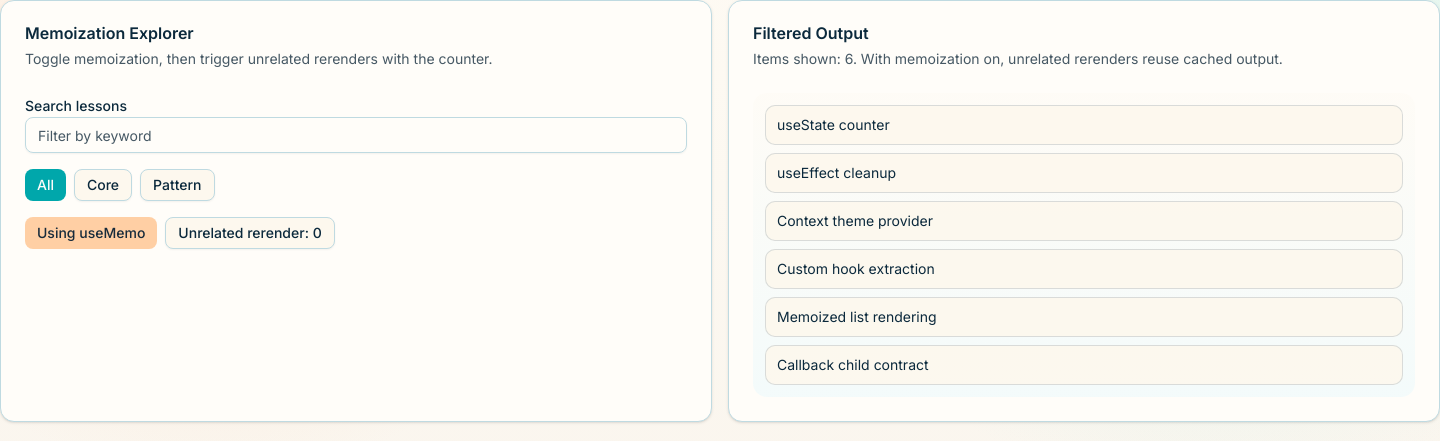
Test case: MemoFilterDemo interactions › supports behavior toggles and filtering state transitions
The width and height of the screenshot is (1440, 441).
expect the text "Items shown: 6." is shown: met, box [753, 50, 1283, 67]
Click the button "Using useMemo" at (91,233), box [25, 217, 157, 249]
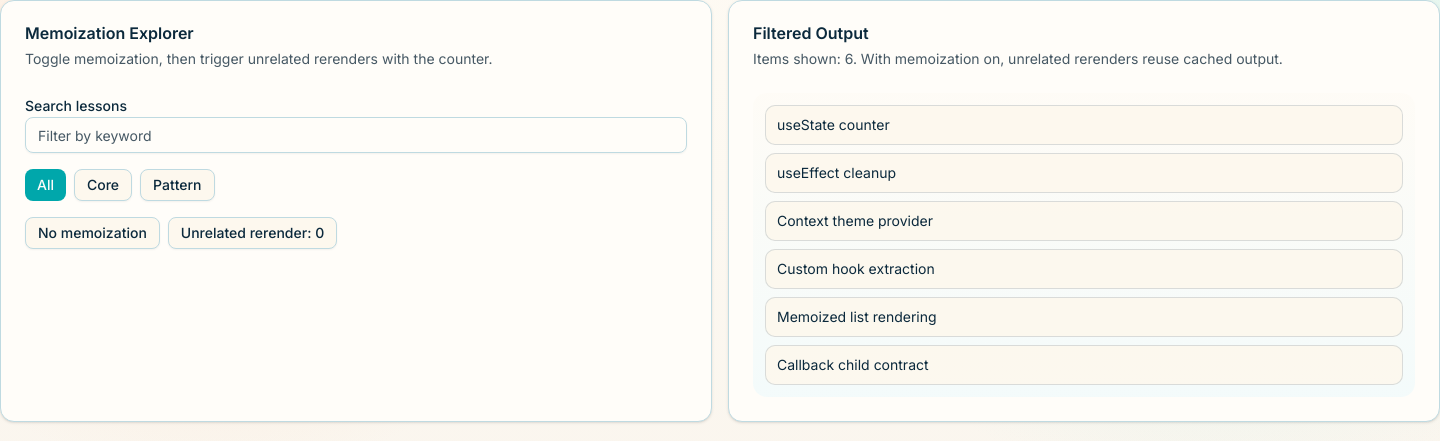
expect the button "No memoization" is shown: met, box [25, 217, 160, 249]
Click the button "Unrelated rerender: 0" at (252,233), box [168, 217, 337, 249]
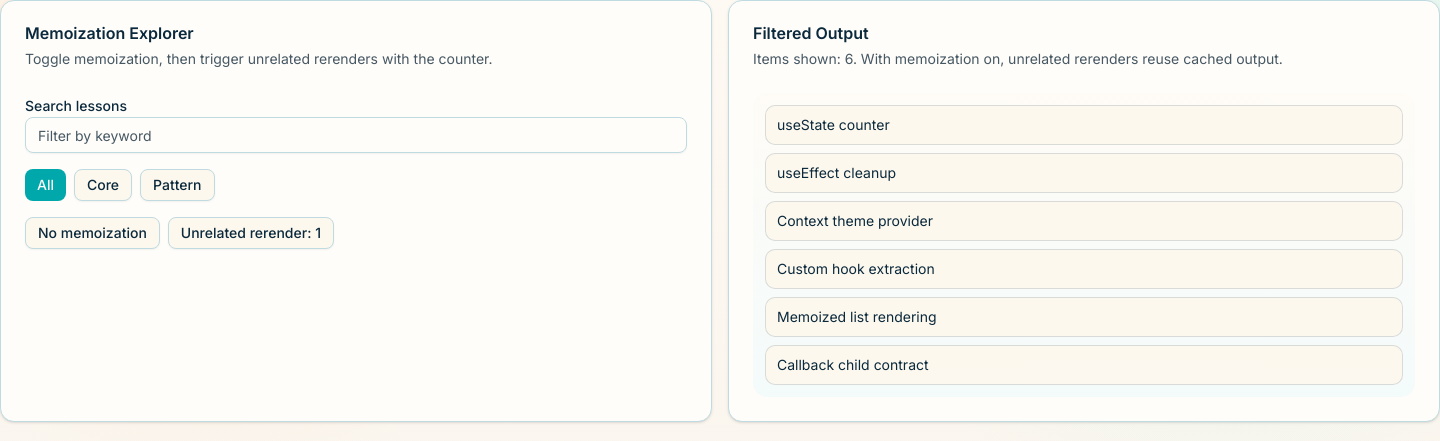
expect the button "Unrelated rerender: 1" is shown: met, box [168, 217, 334, 249]
Type "context" into the field labelled "Search lessons" at (356,135), box [25, 117, 687, 153]
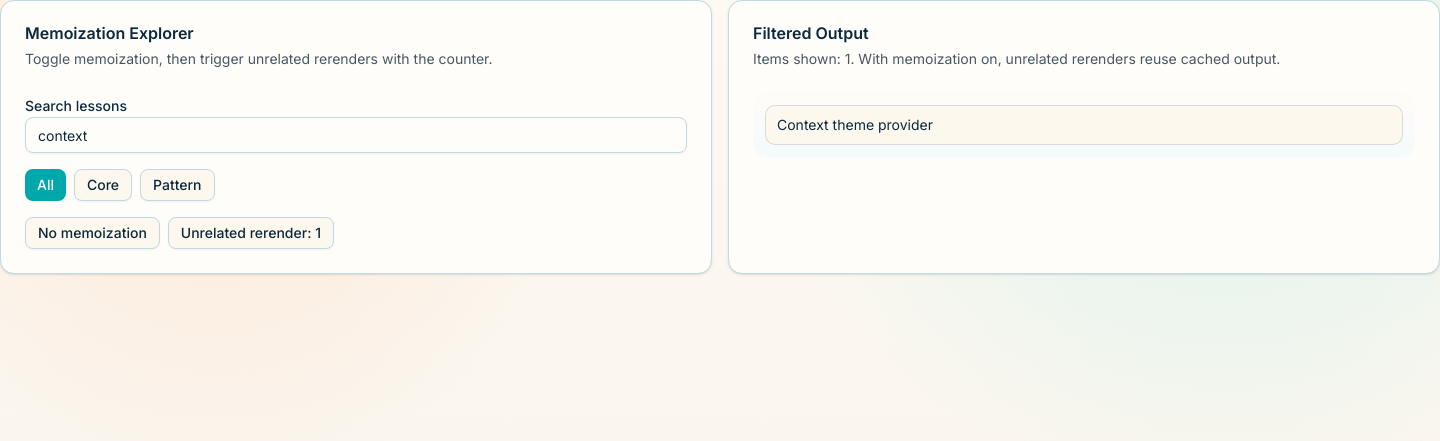
expect the list item "Context theme provider" is shown: met, box [765, 105, 1403, 145]
expect the text "Items shown: 1." is shown: met, box [753, 50, 1280, 67]
Click the button "Core" at (103,185), box [74, 169, 132, 201]
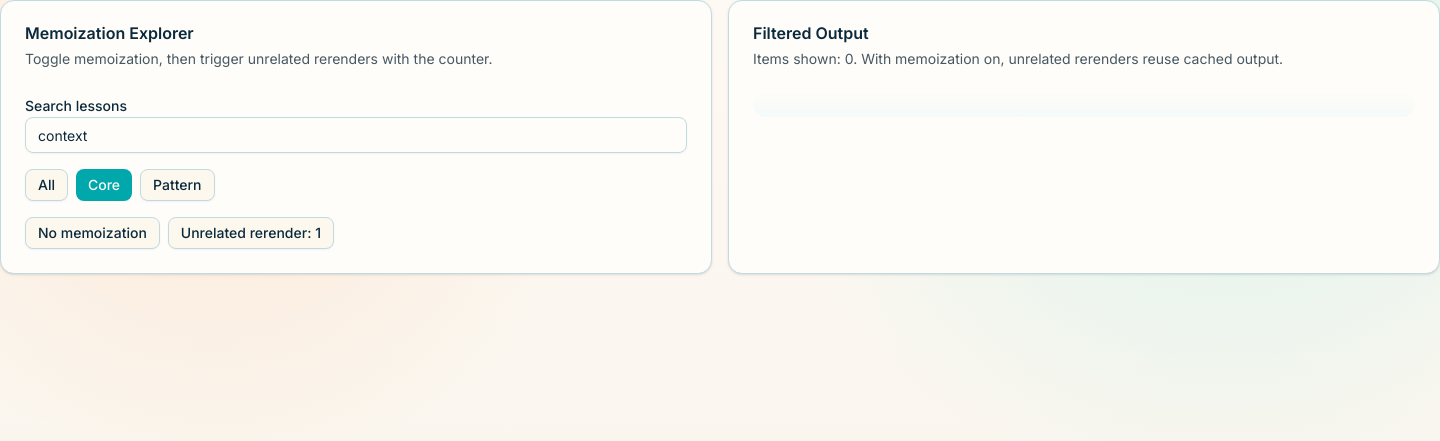
expect the text "Items shown: 0." is shown: met, box [753, 50, 1283, 67]
Click the button "Pattern" at (177,185), box [140, 169, 215, 201]
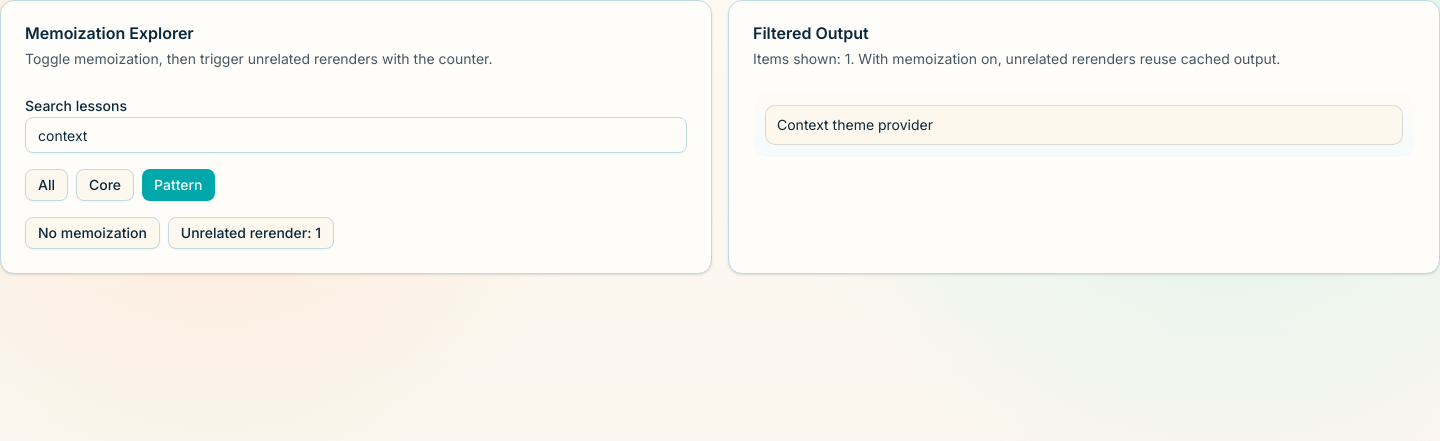
expect the text "Items shown: 1." is shown: met, box [753, 50, 1280, 67]
